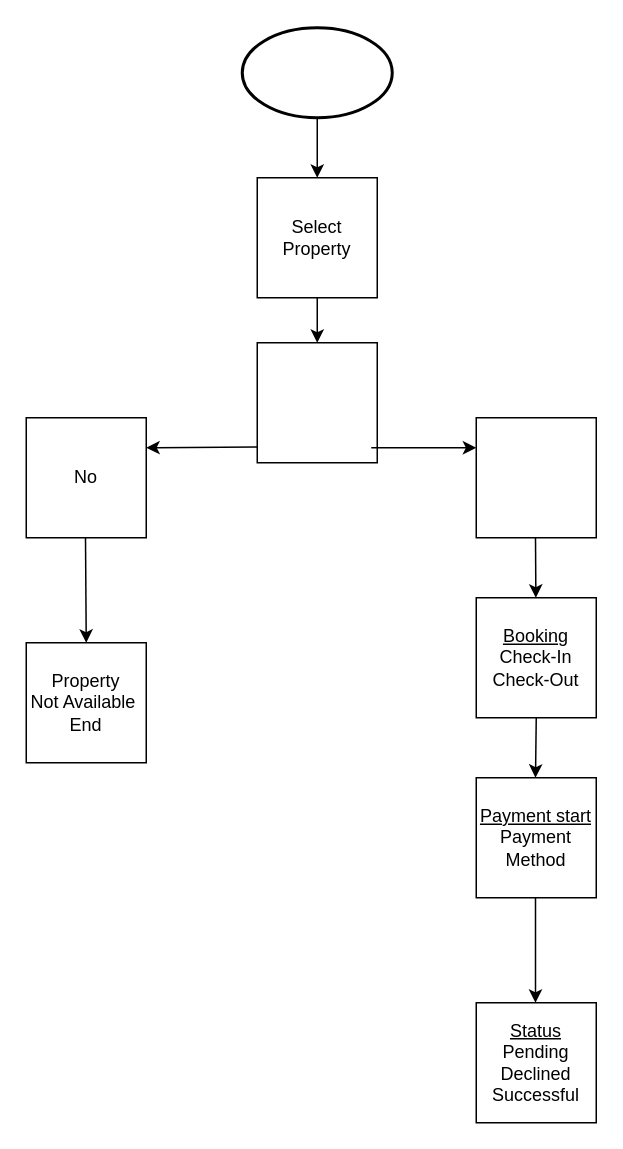
Some shapes in this 623 by 1149 pixel diagram are drawn without their labels. Here are the shapes that lost their labels. From the top down, the centre of each, then its label:
the point at 316,72: Start Booking Property
the point at 316,402: Availability
the point at 535,477: Yes
